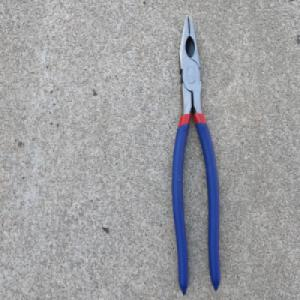Pliers: (169, 12, 222, 296)
